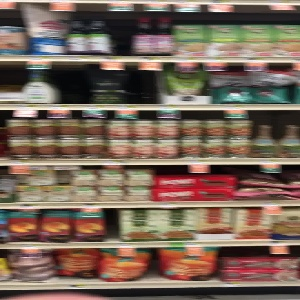void: (54, 60, 92, 104), (131, 59, 162, 105)
